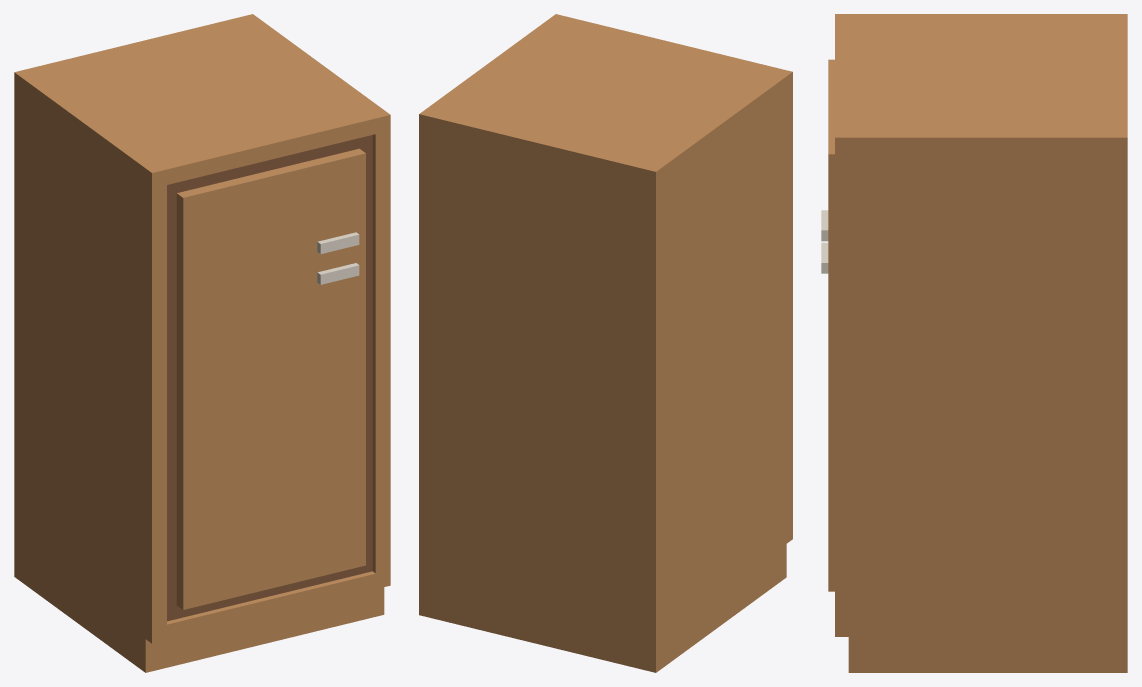
Rendered from kitKitchenFridgeBuiltIn.glb.
3 views of the same model, side by side, from view 1: azimuth 30°, elevation 25°; view 2: azimuth 150°, elevation 25°; view 3: azimuth 270°, elevation 25° (orthographic). The views are drawn at different scales.
Visible parts, largest first — view 1: kitKitchenFridgeBuiltIn_wood, kitKitchenFridgeBuiltIn_woodDark, kitKitchenFridgeBuiltIn_metal; view 2: kitKitchenFridgeBuiltIn_wood; view 3: kitKitchenFridgeBuiltIn_wood, kitKitchenFridgeBuiltIn_metal.
Part boxes in pixels (box(x1,y1,x2,y2)): kitKitchenFridgeBuiltIn_wood: box(14, 14, 390, 672); kitKitchenFridgeBuiltIn_woodDark: box(167, 135, 372, 621); kitKitchenFridgeBuiltIn_metal: box(317, 232, 359, 284); kitKitchenFridgeBuiltIn_wood: box(419, 14, 792, 672); kitKitchenFridgeBuiltIn_wood: box(828, 14, 1127, 672); kitKitchenFridgeBuiltIn_metal: box(821, 210, 828, 273).
Bounding box in the file's own units: 0.86 × 1.74 × 0.9.
